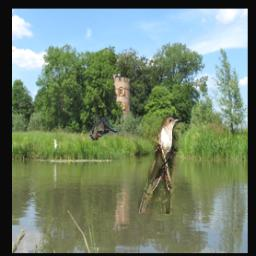Cuckoo: (138, 117, 179, 214)
Sparrow: (90, 116, 119, 141)
